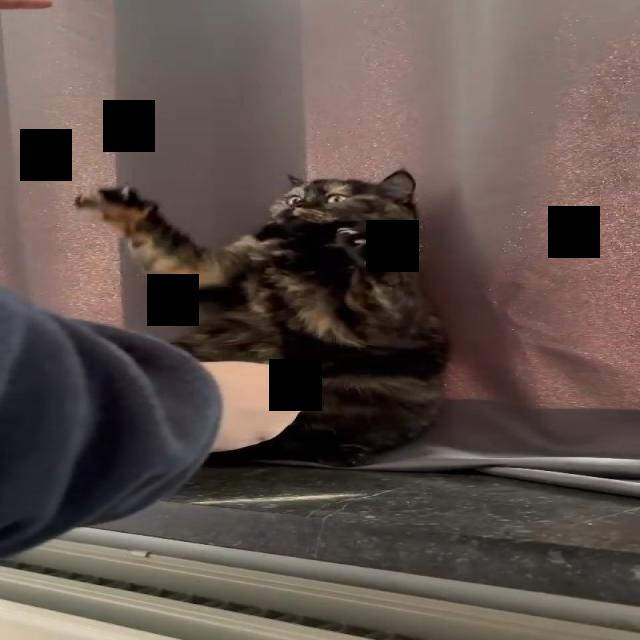authorized: (72, 168, 452, 468)
